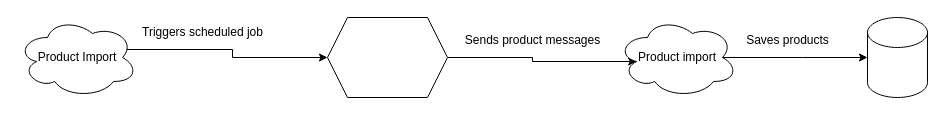
This 945x115 diagram has some shape labels left out. Each missing label, with the centre of its shape:
Db: point 897,57
ERP: point 387,57
